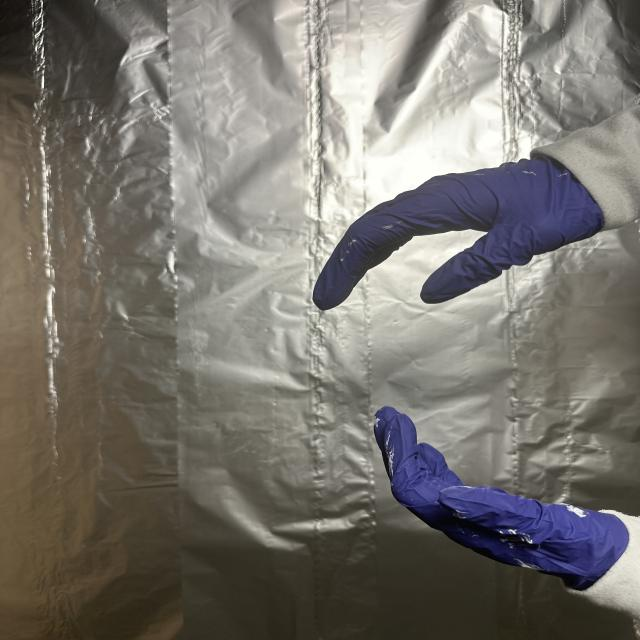gloves_contaminated: (374, 408, 631, 590), (314, 159, 603, 309)
